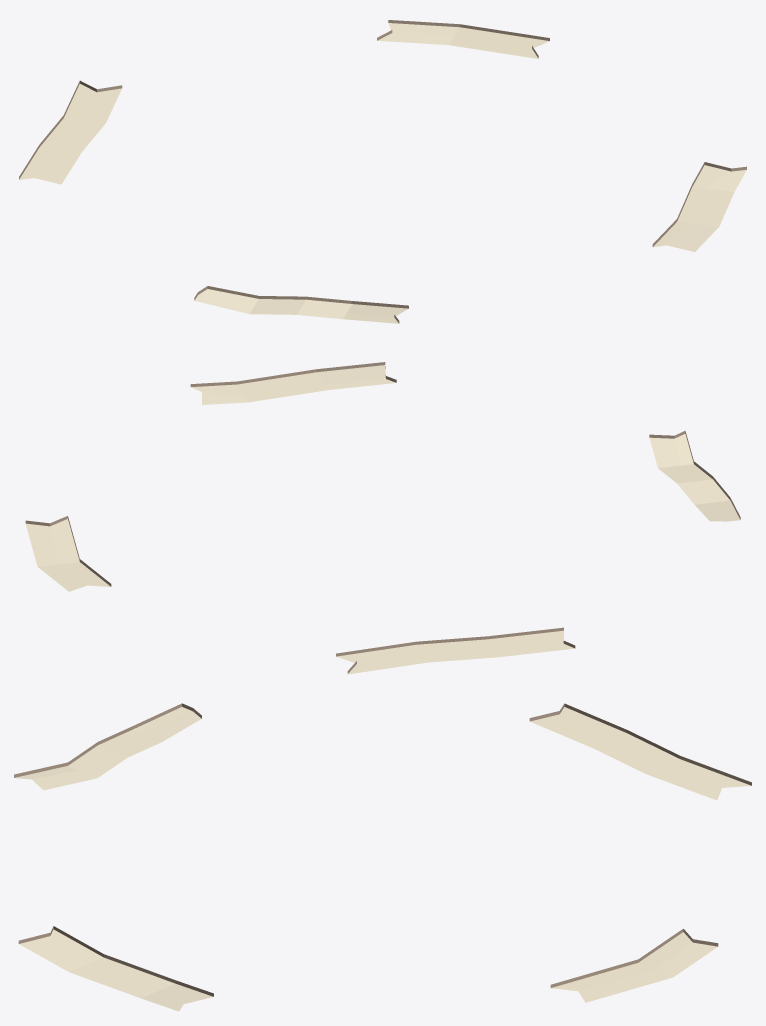
The model's file is Tape.glb.
3 renders of one model, top to bottom at view 1: azimuth 30°, elevation 25°; view 2: azimuth 150°, elevation 25°; view 3: azimuth 270°, elevation 25°, orthographic. The views are drawn at different scales.
Visible parts, largest first — view 1: PF_Tapper; view 2: PF_Tapper; view 3: PF_Tapper.
Part boxes in pixels (<box>): PF_Tapper: <box>19,20,746,323</box>; PF_Tapper: <box>25,362,740,674</box>; PF_Tapper: <box>14,703,751,1011</box>.
Bounding box in the file's own units: 1.19 × 0.0168 × 1.22.
Materials: 3 (1 with a texture image).
